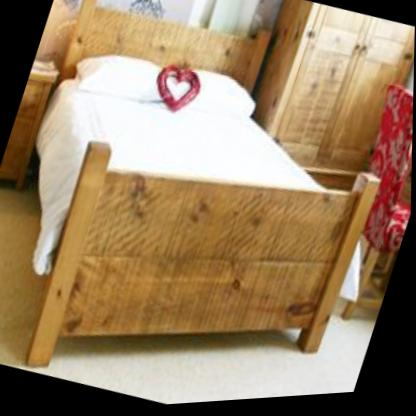Bed: (29, 55, 379, 365)
Chair: (314, 80, 414, 335)
